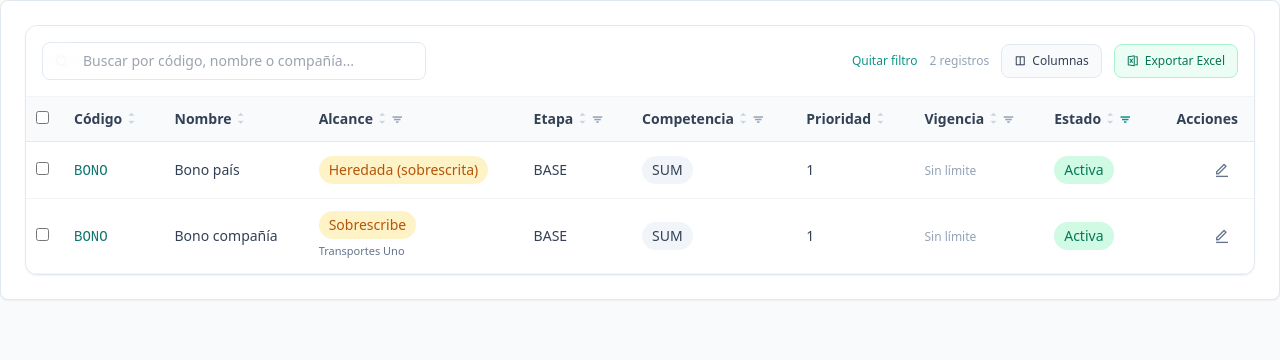
Test case: RulesSection › sin permiso de eliminar no se ofrece Eliminar; sin ninguno no hay casillas
Click the checkbox named "Marcar fila R1" at (42, 168), box [36, 162, 48, 175]
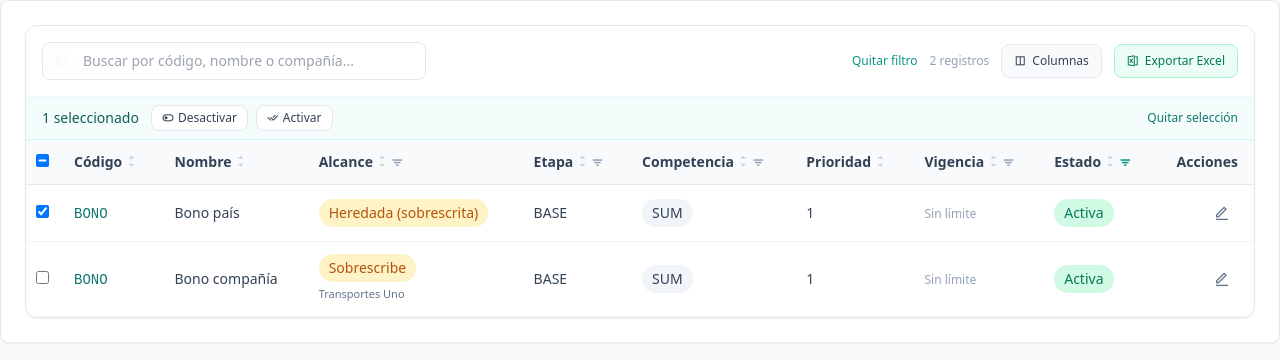
Expected: the button "Activar" is shown, [256, 105, 332, 131]
